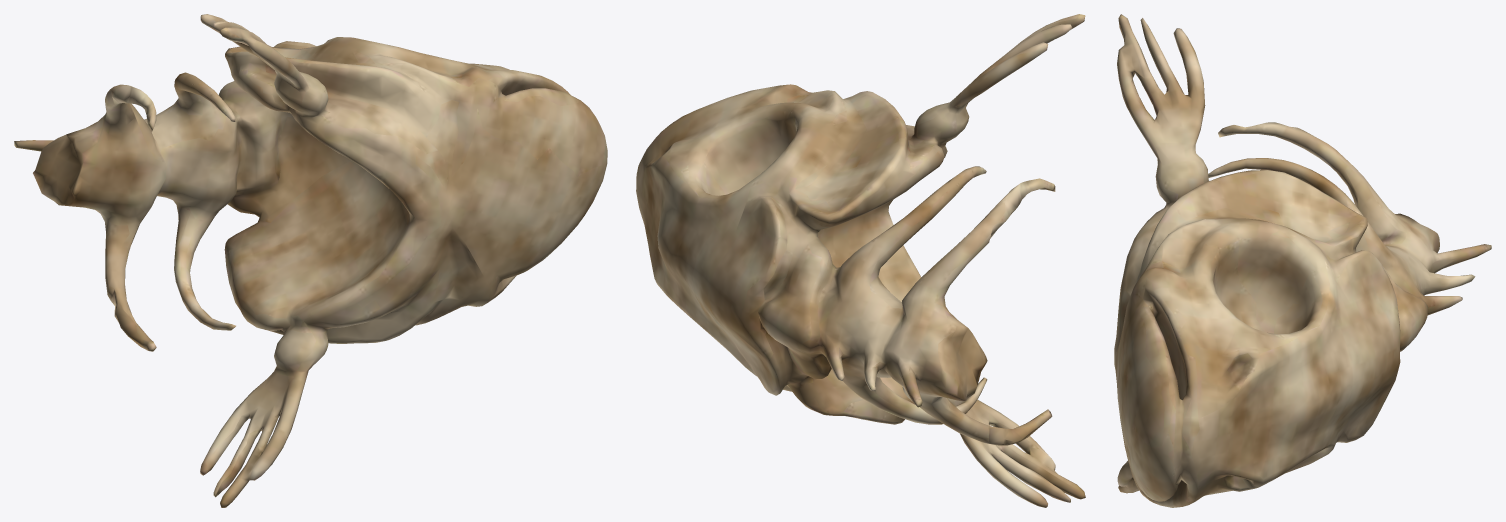
File: bone_skull_s.glb
3 renders of one model, left to right at view 1: azimuth 30°, elevation 25°; view 2: azimuth 150°, elevation 25°; view 3: azimuth 270°, elevation 25°, orthographic.
Visible parts, largest first — view 1: bone_skull_s; view 2: bone_skull_s; view 3: bone_skull_s.
Part boxes in pixels (x1,y1,x2,y2): bone_skull_s: (14, 14, 607, 507); bone_skull_s: (636, 14, 1085, 507); bone_skull_s: (1114, 14, 1491, 507).
Bounding box in the file's own units: 0.3 × 0.312 × 0.2242.
Materials: 1 (1 with a texture image).
